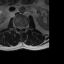CCS_stenosis: (19, 24, 21, 31)
LFS_normal: (23, 24, 25, 30)
LLS_normal: (21, 24, 23, 30)
RFS_normal: (15, 23, 17, 30)
RLS_normal: (17, 24, 19, 30)
